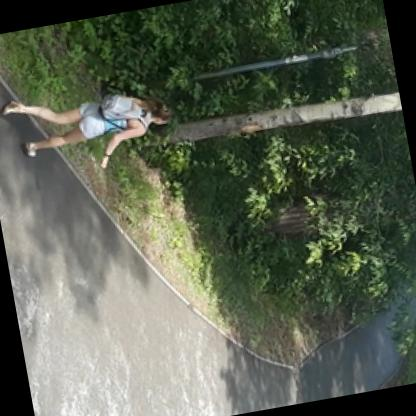Human Body: (0, 68, 184, 189)
